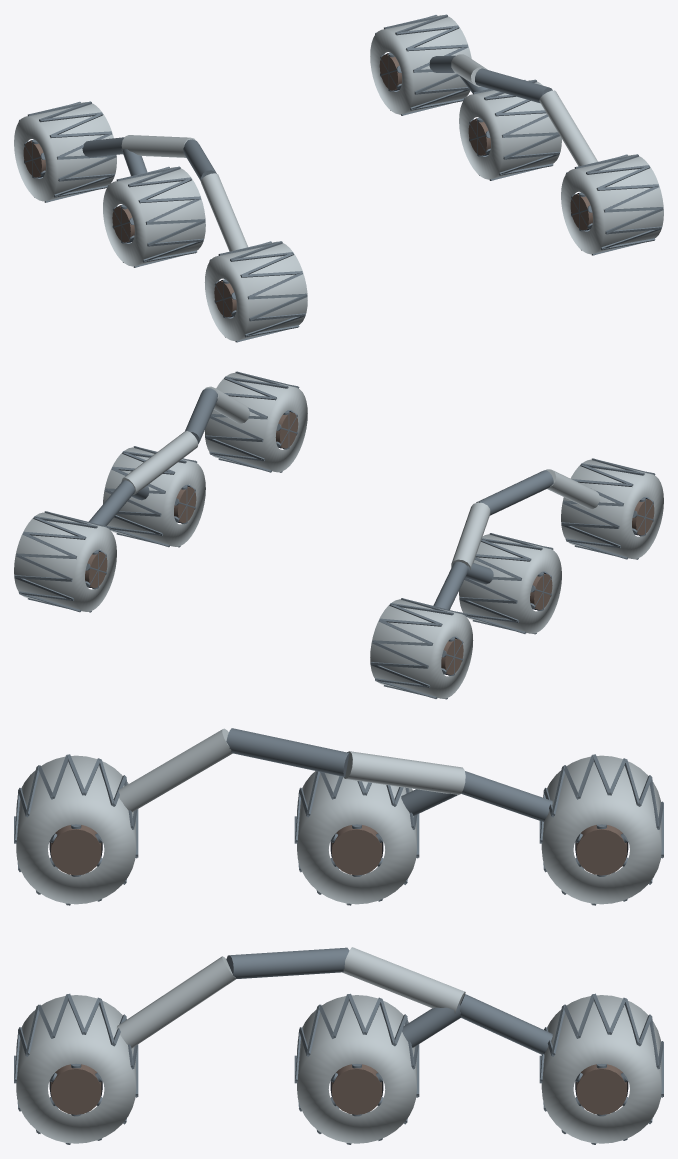
The model's file is curiosity_mobility.glb.
The picture shows the model from 3 angles, top to bottom: view 1: azimuth 30°, elevation 25°; view 2: azimuth 150°, elevation 25°; view 3: azimuth 270°, elevation 25°; orthographic projection. The views are drawn at different scales.
Parts seen in each view (by area): view 1: curiosity_mobility.rocker_left.steer_front.wheel_front.rim.m (×3), curiosity_mobility.rocker_left.bogie.axle_middle.wheel_middl (×3), curiosity_mobility.rocker_right.steer_front.wheel_front.rim. (×3), curiosity_mobility.rocker_left.bogie.steer_rear.wheel_rear.r (×3), curiosity_mobility.rocker_right.bogie.steer_rear.wheel_rear. (×3), curiosity_mobility.rocker_right.bogie.axle_middle.wheel_midd (×3), curiosity_mobility.rocker_left.mesh_Satin_aluminum, curiosity_mobility.rocker_right.mesh_Satin_aluminum, curiosity_mobility.rocker_right.mesh_Machined_steel, curiosity_mobility.rocker_left.bogie.mesh_Machined_steel, curiosity_mobility.rocker_left.mesh_Machined_steel, curiosity_mobility.rocker_right.bogie.mesh_Machined_steel; view 2: curiosity_mobility.rocker_right.bogie.steer_rear.wheel_rear. (×3), curiosity_mobility.rocker_left.bogie.steer_rear.wheel_rear.r (×3), curiosity_mobility.rocker_left.steer_front.wheel_front.rim.m (×3), curiosity_mobility.rocker_left.bogie.axle_middle.wheel_middl (×3), curiosity_mobility.rocker_right.steer_front.wheel_front.rim. (×3), curiosity_mobility.rocker_right.bogie.axle_middle.wheel_midd (×3), curiosity_mobility.rocker_right.mesh_Satin_aluminum, curiosity_mobility.rocker_left.mesh_Satin_aluminum, curiosity_mobility.rocker_left.mesh_Machined_steel, curiosity_mobility.rocker_left.bogie.mesh_Machined_steel, curiosity_mobility.rocker_right.bogie.mesh_Machined_steel, curiosity_mobility.rocker_right.mesh_Machined_steel; view 3: curiosity_mobility.rocker_right.bogie.steer_rear.wheel_rear. (×3), curiosity_mobility.rocker_left.bogie.steer_rear.wheel_rear.r (×3), curiosity_mobility.rocker_right.bogie.axle_middle.wheel_midd (×3), curiosity_mobility.rocker_right.steer_front.wheel_front.rim. (×3), curiosity_mobility.rocker_left.steer_front.wheel_front.rim.m (×3), curiosity_mobility.rocker_left.bogie.axle_middle.wheel_middl (×3), curiosity_mobility.rocker_right.mesh_Satin_aluminum, curiosity_mobility.rocker_left.mesh_Satin_aluminum, curiosity_mobility.rocker_right.bogie.mesh_Machined_steel, curiosity_mobility.rocker_left.mesh_Machined_steel, curiosity_mobility.rocker_left.bogie.mesh_Machined_steel, curiosity_mobility.rocker_right.mesh_Machined_steel.
Boxes of the visible parts, <box> form: curiosity_mobility.rocker_left.steer_front.wheel_front.rim.m (×3): <box>204,241,307,342</box>; curiosity_mobility.rocker_left.bogie.axle_middle.wheel_middl (×3): <box>103,166,205,267</box>; curiosity_mobility.rocker_right.steer_front.wheel_front.rim. (×3): <box>561,154,663,255</box>; curiosity_mobility.rocker_left.bogie.steer_rear.wheel_rear.r (×3): <box>14,101,116,202</box>; curiosity_mobility.rocker_right.bogie.steer_rear.wheel_rear. (×3): <box>370,14,471,115</box>; curiosity_mobility.rocker_right.bogie.axle_middle.wheel_midd (×3): <box>459,79,561,180</box>; curiosity_mobility.rocker_left.mesh_Satin_aluminum: <box>121,135,247,251</box>; curiosity_mobility.rocker_right.mesh_Satin_aluminum: <box>451,54,597,166</box>; curiosity_mobility.rocker_right.mesh_Machined_steel: <box>475,68,552,103</box>; curiosity_mobility.rocker_left.bogie.mesh_Machined_steel: <box>82,137,147,175</box>; curiosity_mobility.rocker_left.mesh_Machined_steel: <box>183,139,216,180</box>; curiosity_mobility.rocker_right.bogie.mesh_Machined_steel: <box>429,55,488,92</box>; curiosity_mobility.rocker_right.bogie.steer_rear.wheel_rear. (×3): <box>14,511,116,612</box>; curiosity_mobility.rocker_left.bogie.steer_rear.wheel_rear.r (×3): <box>370,598,473,699</box>; curiosity_mobility.rocker_left.steer_front.wheel_front.rim.m (×3): <box>561,458,663,559</box>; curiosity_mobility.rocker_left.bogie.axle_middle.wheel_middl (×3): <box>459,533,561,634</box>; curiosity_mobility.rocker_right.steer_front.wheel_front.rim. (×3): <box>204,371,307,472</box>; curiosity_mobility.rocker_right.bogie.axle_middle.wheel_midd (×3): <box>103,446,205,547</box>; curiosity_mobility.rocker_right.mesh_Satin_aluminum: <box>121,386,249,494</box>; curiosity_mobility.rocker_left.mesh_Satin_aluminum: <box>451,469,600,570</box>; curiosity_mobility.rocker_left.mesh_Machined_steel: <box>476,470,553,515</box>; curiosity_mobility.rocker_left.bogie.mesh_Machined_steel: <box>433,561,493,609</box>; curiosity_mobility.rocker_right.bogie.mesh_Machined_steel: <box>88,480,149,525</box>; curiosity_mobility.rocker_right.mesh_Machined_steel: <box>185,388,217,443</box>; curiosity_mobility.rocker_right.bogie.steer_rear.wheel_rear. (×3): <box>539,993,663,1144</box>; curiosity_mobility.rocker_left.bogie.steer_rear.wheel_rear.r (×3): <box>539,754,663,905</box>; curiosity_mobility.rocker_right.bogie.axle_middle.wheel_midd (×3): <box>294,993,419,1144</box>; curiosity_mobility.rocker_right.steer_front.wheel_front.rim. (×3): <box>14,993,138,1144</box>; curiosity_mobility.rocker_left.steer_front.wheel_front.rim.m (×3): <box>14,754,138,905</box>; curiosity_mobility.rocker_left.bogie.axle_middle.wheel_middl (×3): <box>294,771,419,905</box>; curiosity_mobility.rocker_right.mesh_Satin_aluminum: <box>116,947,465,1048</box>; curiosity_mobility.rocker_left.mesh_Satin_aluminum: <box>118,728,465,812</box>; curiosity_mobility.rocker_right.bogie.mesh_Machined_steel: <box>402,994,552,1054</box>; curiosity_mobility.rocker_left.mesh_Machined_steel: <box>226,728,349,776</box>; curiosity_mobility.rocker_left.bogie.mesh_Machined_steel: <box>401,771,552,821</box>; curiosity_mobility.rocker_right.mesh_Machined_steel: <box>226,947,349,978</box>.
Bounding box in the file's own units: 2.8 × 0.7506 × 2.71.
